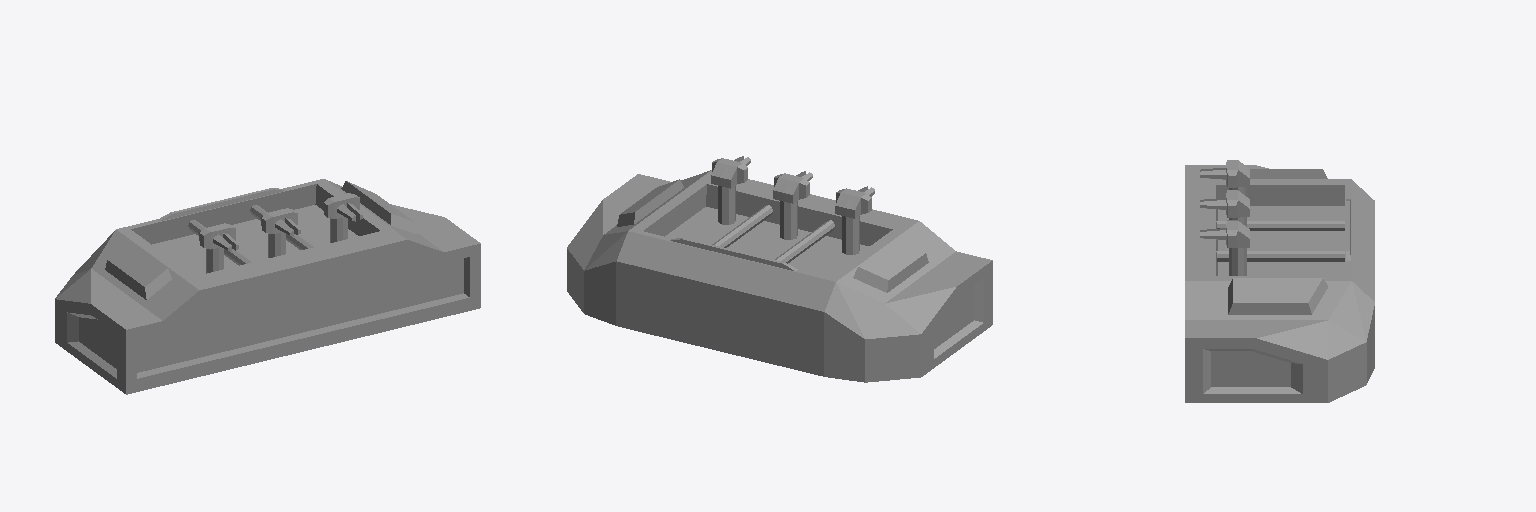
Rendered from hover.obj.
3 renders of one model, left to right at view 1: azimuth 30°, elevation 25°; view 2: azimuth 150°, elevation 25°; view 3: azimuth 270°, elevation 25°, orthographic.
Visible parts, largest first — view 1: Base_base.006, nano; view 2: Base_base.006, nano; view 3: Base_base.006, nano.
Part boxes in pixels (x1,y1,x2,y2): Base_base.006: (55, 179, 480, 394); nano: (199, 193, 362, 273); Base_base.006: (567, 170, 992, 382); nano: (711, 156, 874, 254); Base_base.006: (1185, 165, 1374, 402); nano: (1200, 160, 1249, 275).
Size of the model in its own units: 68.64 by 22.47 by 31.91.